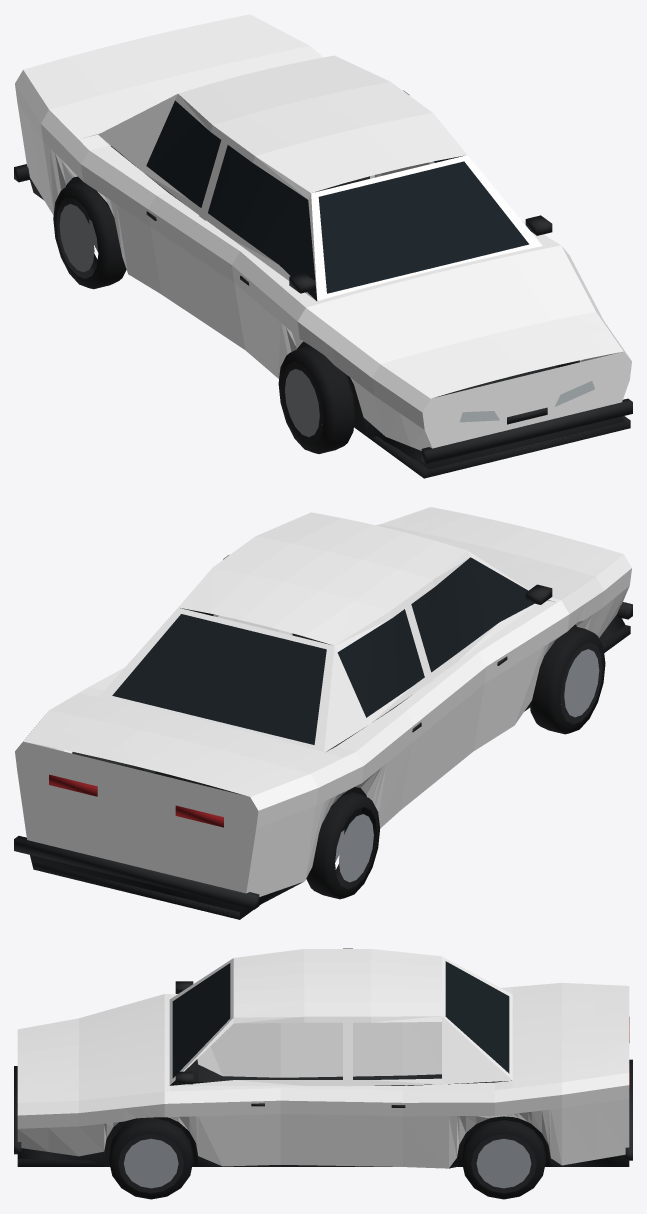
The model's file is hayase_cenario.glb.
3 renders of one model, top to bottom at view 1: azimuth 30°, elevation 25°; view 2: azimuth 150°, elevation 25°; view 3: azimuth 270°, elevation 25°, orthographic. The views are drawn at different scales.
Visible parts, largest first — view 1: Body_Paint, Body_Details, Mount_FrontLeft_Wheel_Details, Mount_RearLeft_Wheel_Details; view 2: Body_Paint, Body_Details, Mount_FrontLeft_Wheel_Details, Mount_RearLeft_Wheel_Details; view 3: Body_Paint, Body_Details, Mount_FrontRight_Wheel_Details, Mount_RearRight_Wheel_Details.
Boxes of the visible parts, x1,y1,x2,y2 form: Body_Paint: [15, 14, 631, 450]; Body_Details: [14, 100, 632, 478]; Mount_FrontLeft_Wheel_Details: [278, 346, 355, 453]; Mount_RearLeft_Wheel_Details: [53, 182, 126, 289]; Body_Paint: [15, 507, 631, 896]; Body_Details: [14, 557, 632, 919]; Mount_FrontLeft_Wheel_Details: [529, 626, 605, 734]; Mount_RearLeft_Wheel_Details: [306, 792, 379, 899]; Body_Paint: [17, 948, 629, 1168]; Body_Details: [14, 961, 632, 1168]; Mount_FrontRight_Wheel_Details: [109, 1117, 193, 1199]; Mount_RearRight_Wheel_Details: [461, 1120, 546, 1199].
Size of the model in its own units: 1.88 by 1.36 by 4.55.
2 materials, 1 textured.
